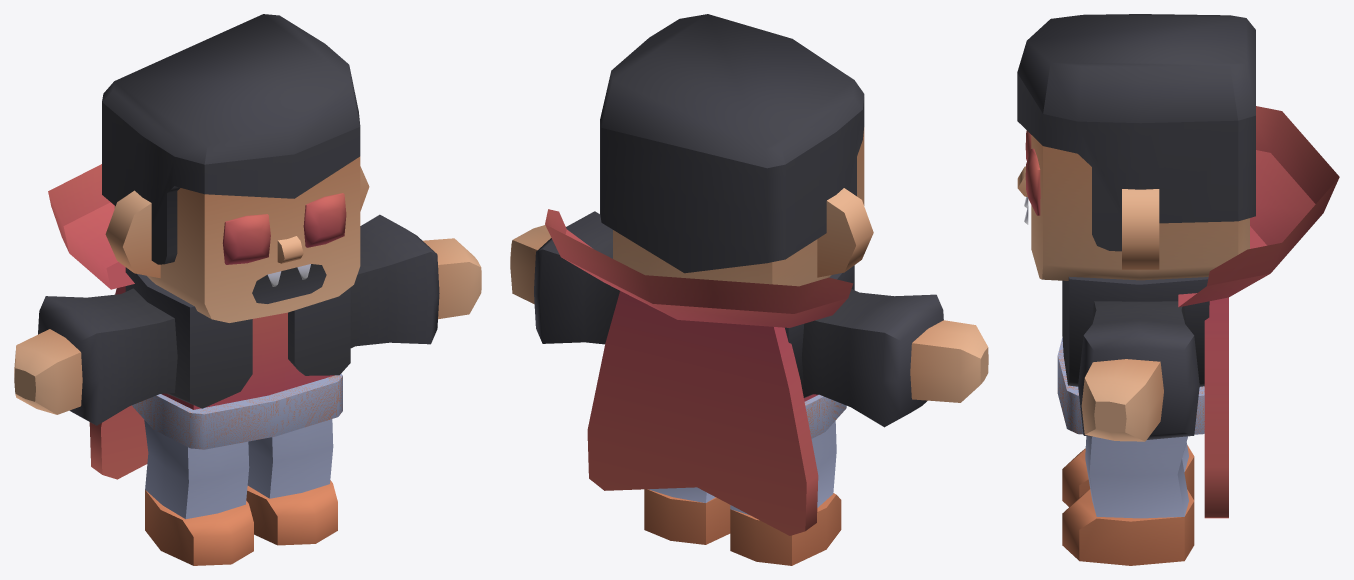
File: character-vampire.glb
The picture shows the model from 3 angles, left to right: view 1: azimuth 30°, elevation 25°; view 2: azimuth 150°, elevation 25°; view 3: azimuth 270°, elevation 25°; orthographic projection. The views are drawn at different scales.
Parts seen in each view (by area): view 1: head, torso, arm-right, arm-left, leg-right, leg-left; view 2: head, torso, arm-right, arm-left, leg-right, leg-left; view 3: head, torso, arm-left, leg-left, leg-right.
Boxes of the visible parts, bbox=[...] form: head: bbox=[102, 14, 369, 322]; torso: bbox=[48, 164, 350, 479]; arm-right: bbox=[14, 288, 177, 425]; arm-left: bbox=[350, 214, 481, 348]; leg-right: bbox=[144, 420, 253, 565]; leg-left: bbox=[246, 419, 337, 545]; head: bbox=[600, 14, 873, 286]; torso: bbox=[545, 209, 854, 535]; arm-right: bbox=[802, 289, 988, 427]; arm-left: bbox=[510, 211, 619, 344]; leg-right: bbox=[730, 421, 841, 565]; leg-left: bbox=[644, 487, 730, 544]; head: bbox=[1017, 14, 1255, 280]; torso: bbox=[1057, 106, 1339, 518]; arm-left: bbox=[1078, 301, 1199, 441]; leg-left: bbox=[1062, 436, 1194, 565]; leg-right: bbox=[1062, 442, 1194, 506].
Bounding box in the file's own units: 0.8114 × 0.7805 × 0.4546.
1 material, 1 textured.
